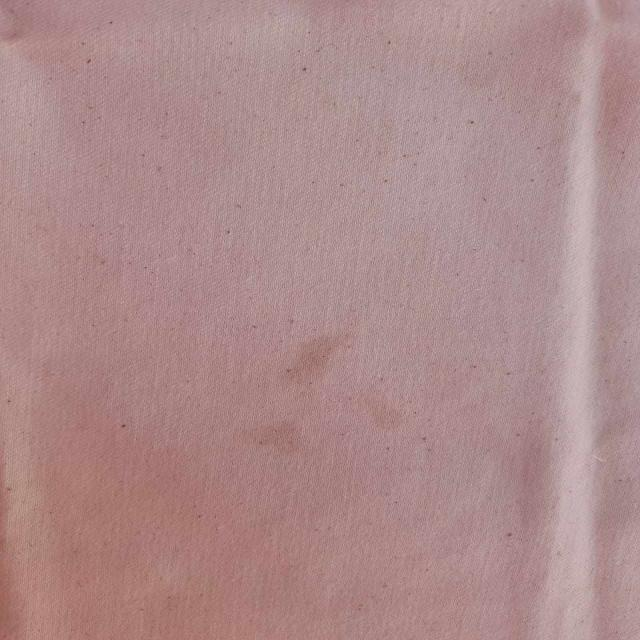taaaches: (274, 322, 356, 392), (231, 410, 322, 467), (362, 393, 411, 447)
